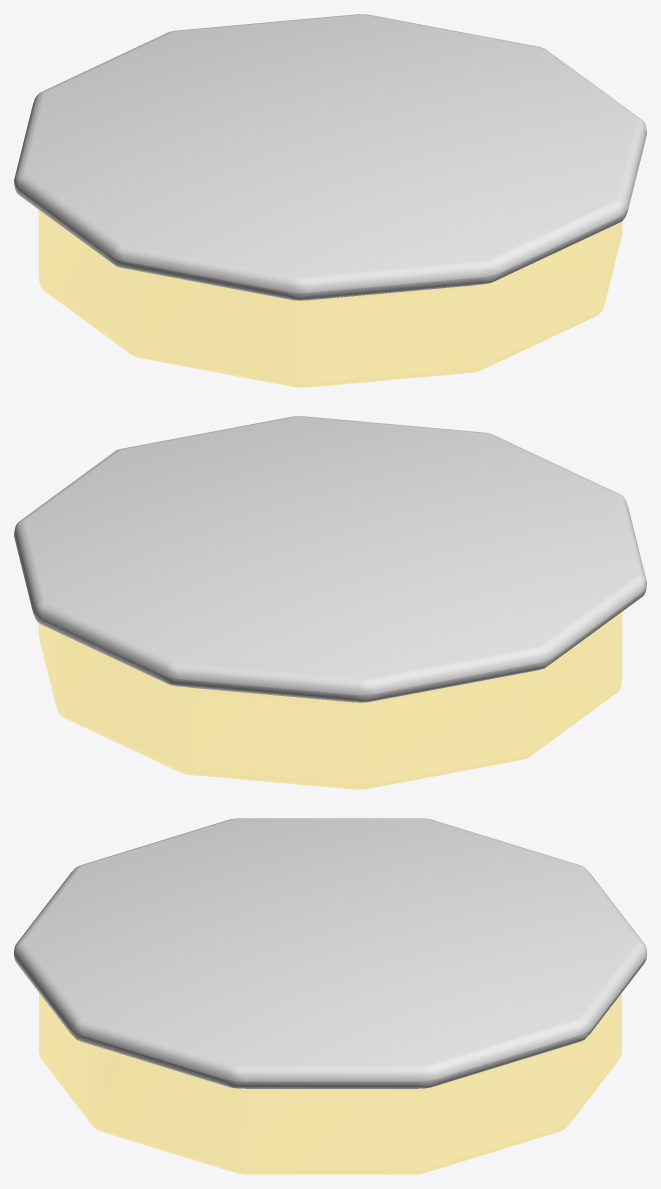
File: home_light_ceiling6.glb
3 renders of one model, top to bottom at view 1: azimuth 30°, elevation 25°; view 2: azimuth 150°, elevation 25°; view 3: azimuth 270°, elevation 25°, orthographic.
Parts seen in each view (by area): view 1: Light_Ceiling6; view 2: Light_Ceiling6; view 3: Light_Ceiling6.
Boxes of the visible parts, <box> form: Light_Ceiling6: <box>14,14,646,387</box>; Light_Ceiling6: <box>14,416,646,789</box>; Light_Ceiling6: <box>14,818,646,1174</box>.
Size of the model in its own units: 0.5311 by 0.1287 by 0.5542.
